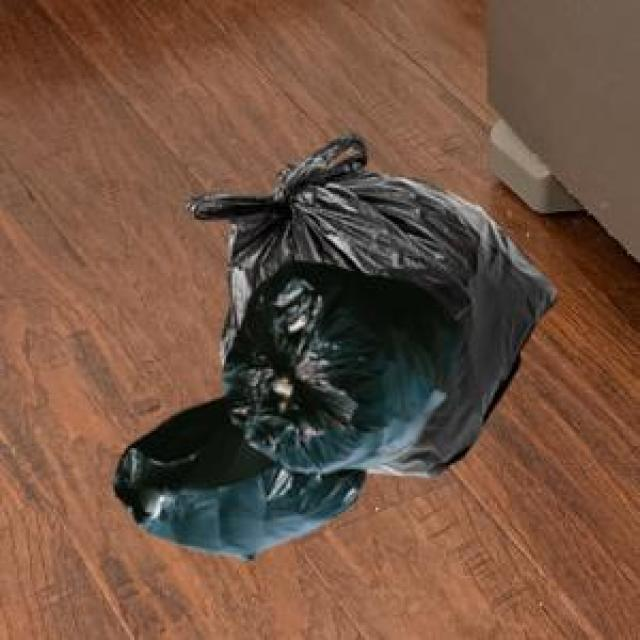waste: (116, 136, 554, 557)
